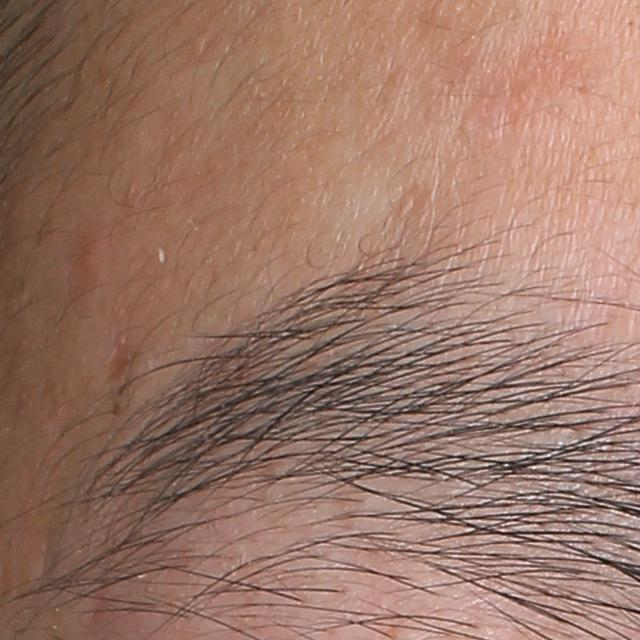papule: (77, 239, 103, 274)
